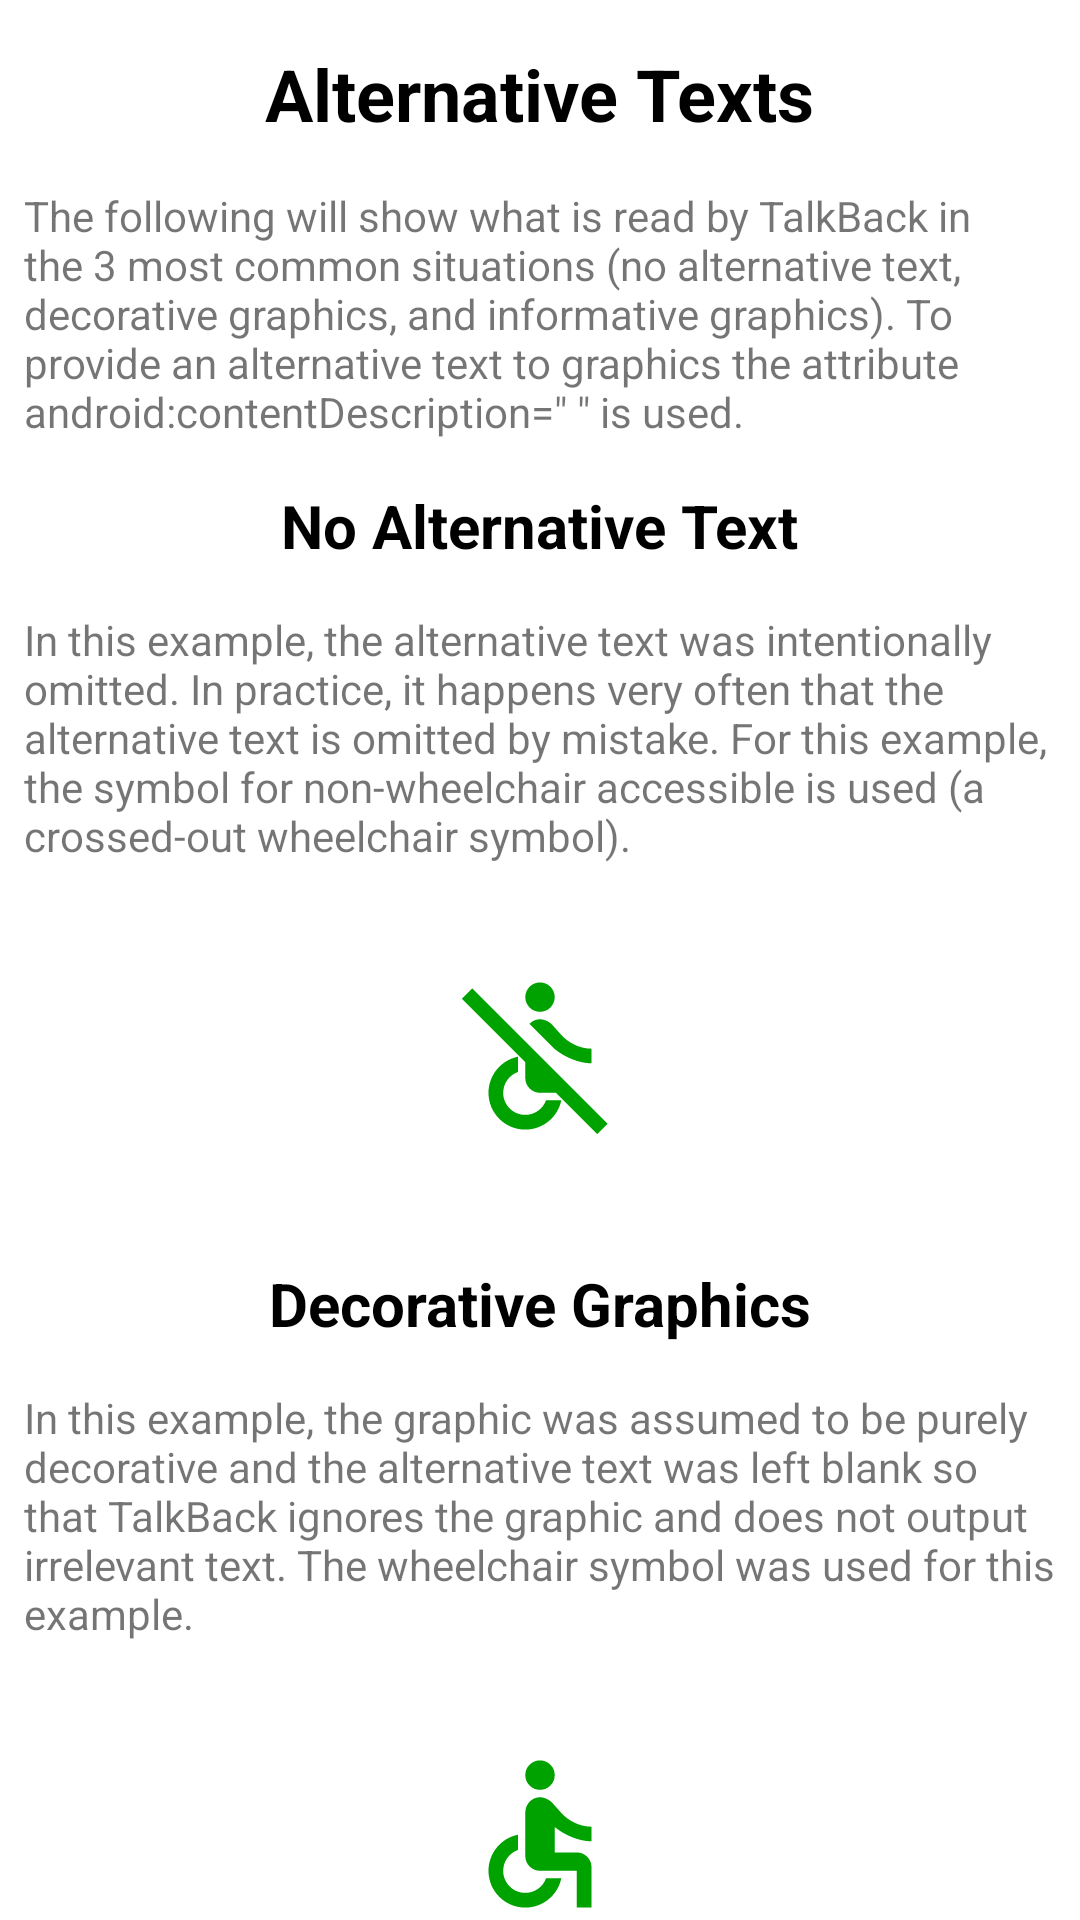

Icons on this 1080px×1920px Android screen, each with its box as (x1, y1, x2, y2):
not accessible: (462, 982, 608, 1134)
